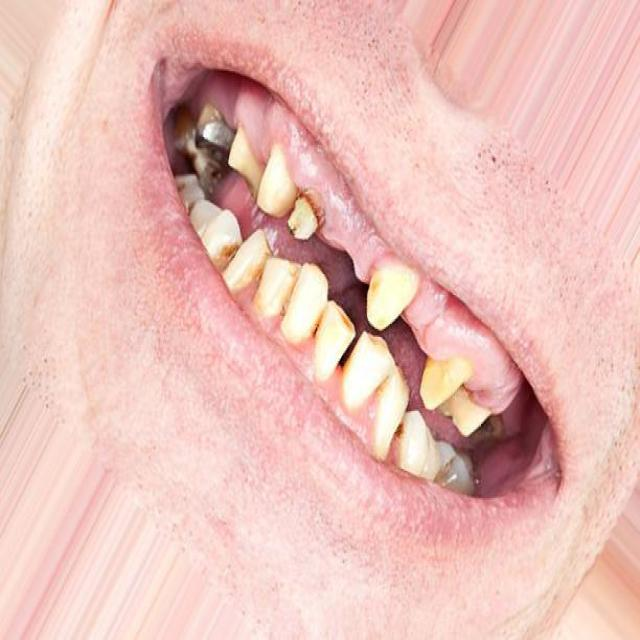caries: (288, 183, 330, 247), (389, 412, 412, 453)
